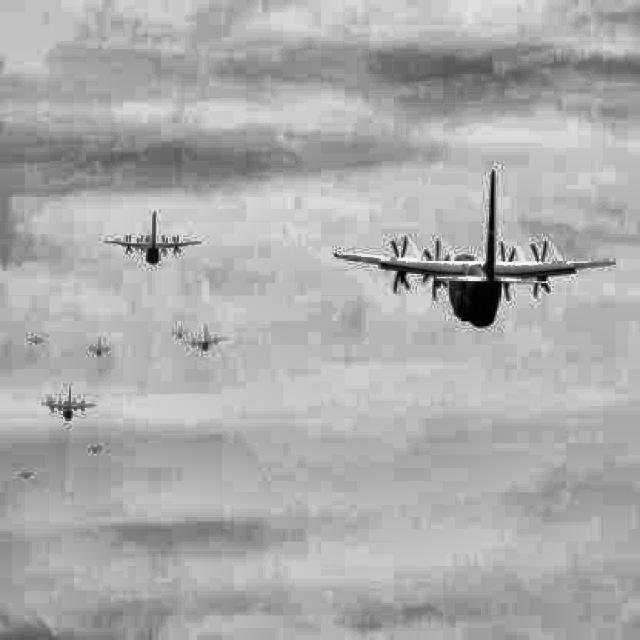C130: (334, 170, 615, 328), (105, 212, 201, 266), (38, 388, 98, 420), (183, 326, 228, 352), (86, 338, 114, 357), (170, 324, 188, 339), (27, 334, 44, 344), (89, 441, 102, 454), (18, 470, 34, 479)
